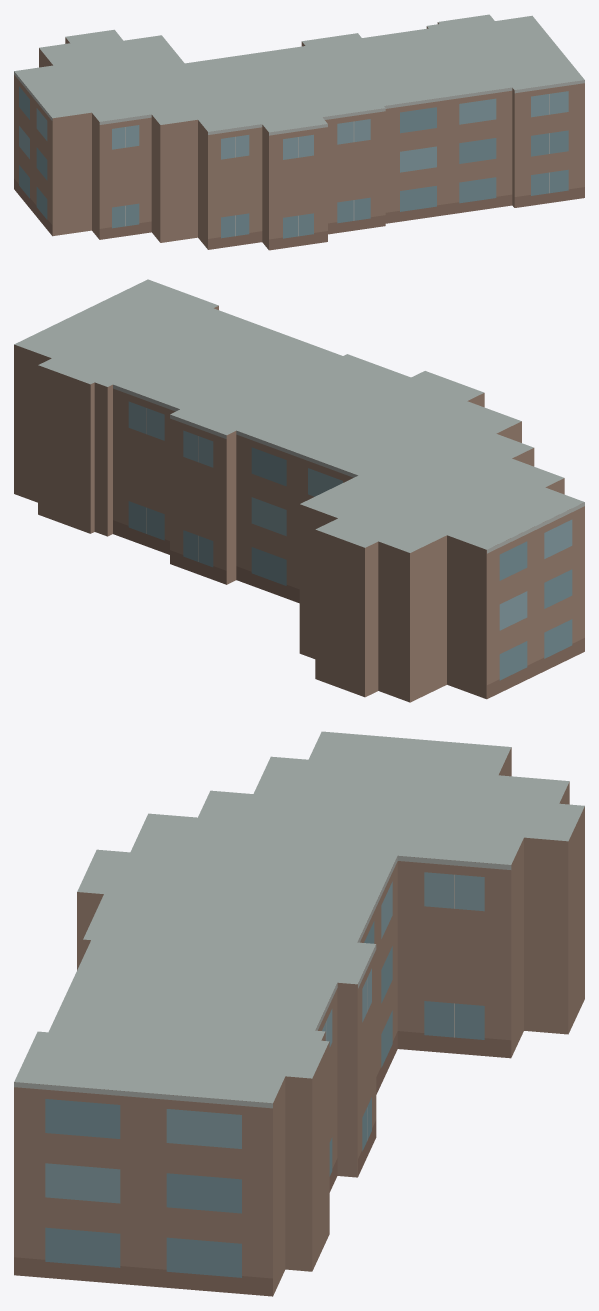
File: survey-upis-32808778.glb
3 renders of one model, top to bottom at view 1: azimuth 30°, elevation 25°; view 2: azimuth 150°, elevation 25°; view 3: azimuth 270°, elevation 25°, orthographic. The views are drawn at different scales.
Parts seen in each view (by area): view 1: survey-upis-32808778.tmp; view 2: survey-upis-32808778.tmp; view 3: survey-upis-32808778.tmp.
Part boxes in pixels (box(x1,y1,x2,y2)): survey-upis-32808778.tmp: box(14, 14, 584, 250); survey-upis-32808778.tmp: box(14, 279, 584, 702); survey-upis-32808778.tmp: box(14, 731, 584, 1296).
Size of the model in its own units: 37.78 by 9.15 by 24.51.
